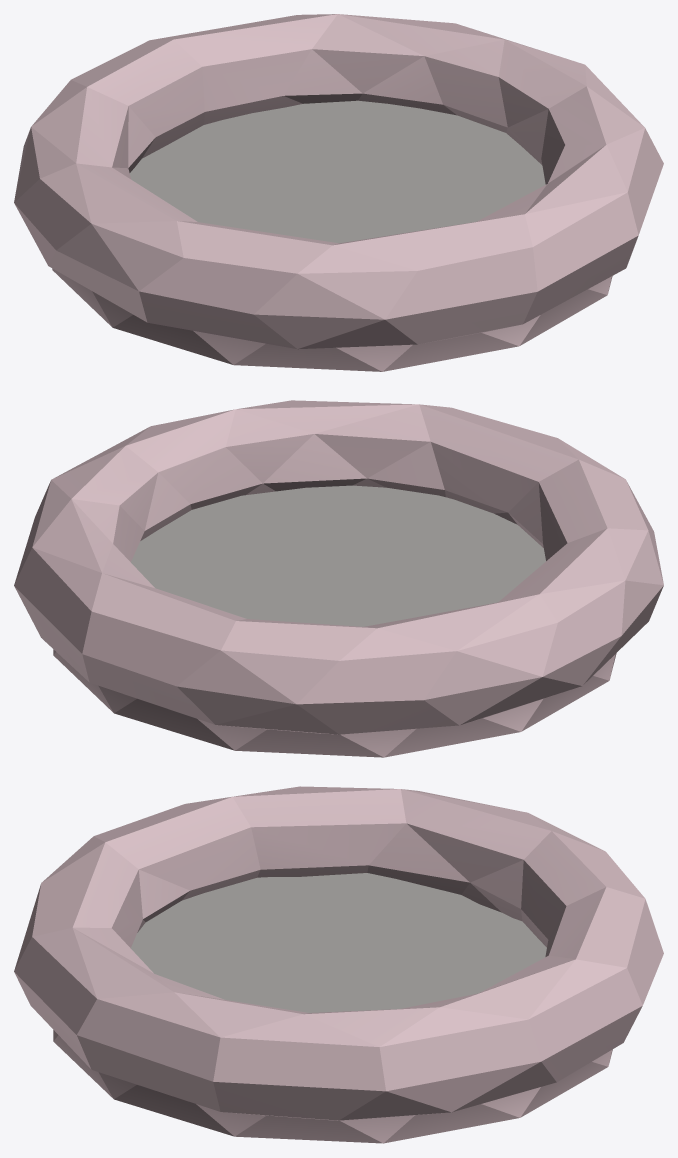
File: petshop_pet_bed__pink_low.glb
3 views of the same model, one above another, from view 1: azimuth 30°, elevation 25°; view 2: azimuth 150°, elevation 25°; view 3: azimuth 270°, elevation 25° (orthographic).
Bounding box in the file's own units: 1.02 × 0.2103 × 1.02.
